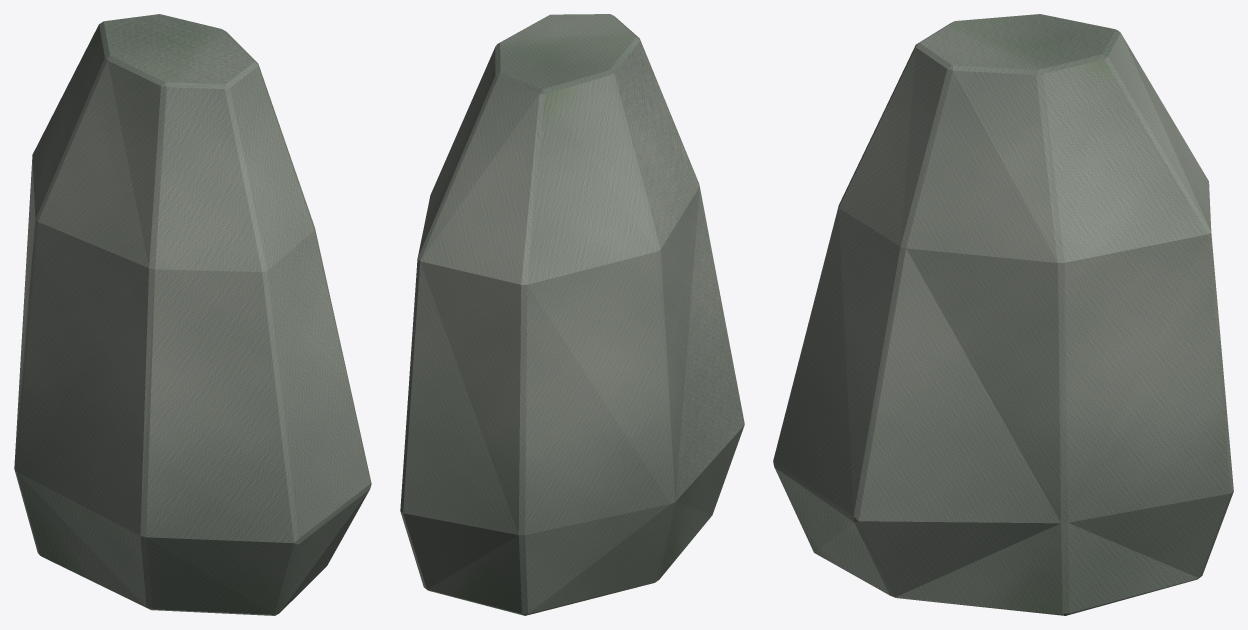
The model's file is v03_rock_1.fbx.
3 views of the same model, side by side, from view 1: azimuth 30°, elevation 25°; view 2: azimuth 150°, elevation 25°; view 3: azimuth 270°, elevation 25° (orthographic). The views are drawn at different scales.
Visible parts, largest first — view 1: v03_rock_1.003; view 2: v03_rock_1.003; view 3: v03_rock_1.003.
Boxes of the visible parts, x1,y1,x2,y2 form: v03_rock_1.003: (14, 14, 371, 615); v03_rock_1.003: (400, 14, 744, 615); v03_rock_1.003: (773, 14, 1233, 615).
Bounding box in the file's own units: 12730 × 8611 × 15600.
